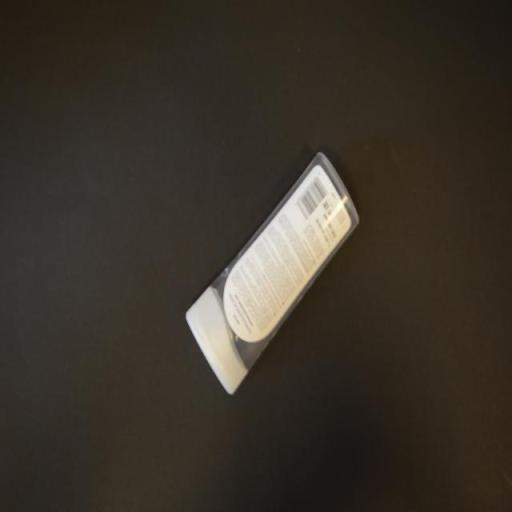plastic: (182, 147, 364, 401)
